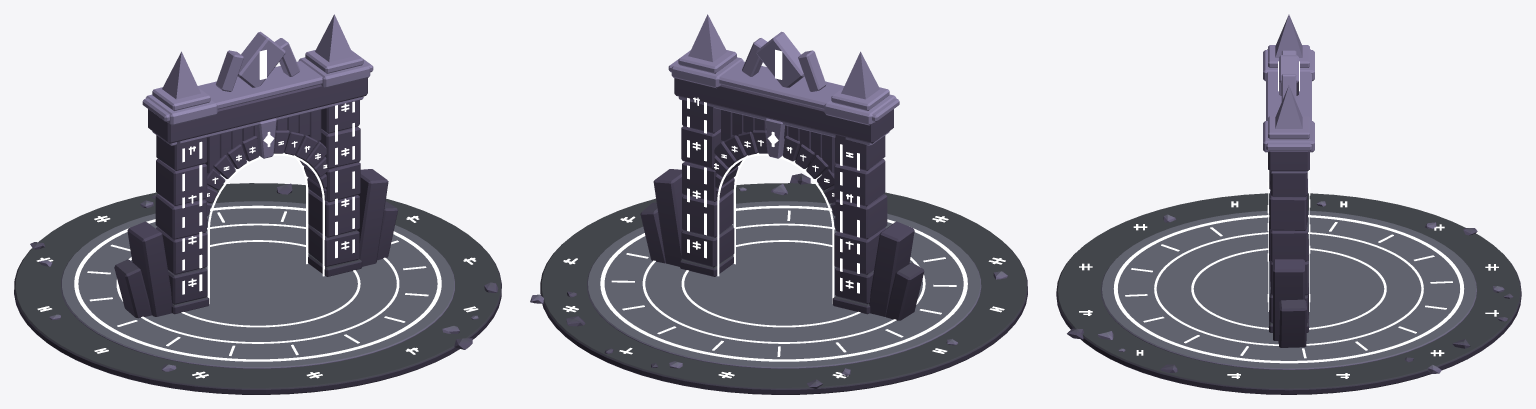
File: portal_gate.glb
3 views of the same model, side by side, from view 1: azimuth 30°, elevation 25°; view 2: azimuth 150°, elevation 25°; view 3: azimuth 270°, elevation 25° (orthographic). The views are drawn at different scales.
Parts seen in each view (by area): view 1: plinth_outer; view 2: plinth_outer; view 3: plinth_outer.
Boxes of the visible parts, left/top/right/bottom form: plinth_outer: left=14, top=14, right=501, bottom=394; plinth_outer: left=530, top=14, right=1027, bottom=394; plinth_outer: left=1056, top=14, right=1521, bottom=394.
Size of the model in its own units: 18.8 by 11.05 by 18.8.
